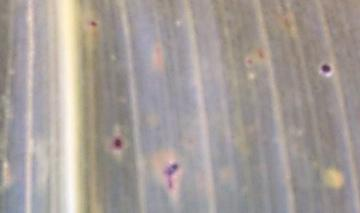tarspot: (165, 163, 178, 188), (320, 64, 332, 74), (114, 137, 123, 149), (245, 58, 254, 66), (90, 20, 98, 28)
